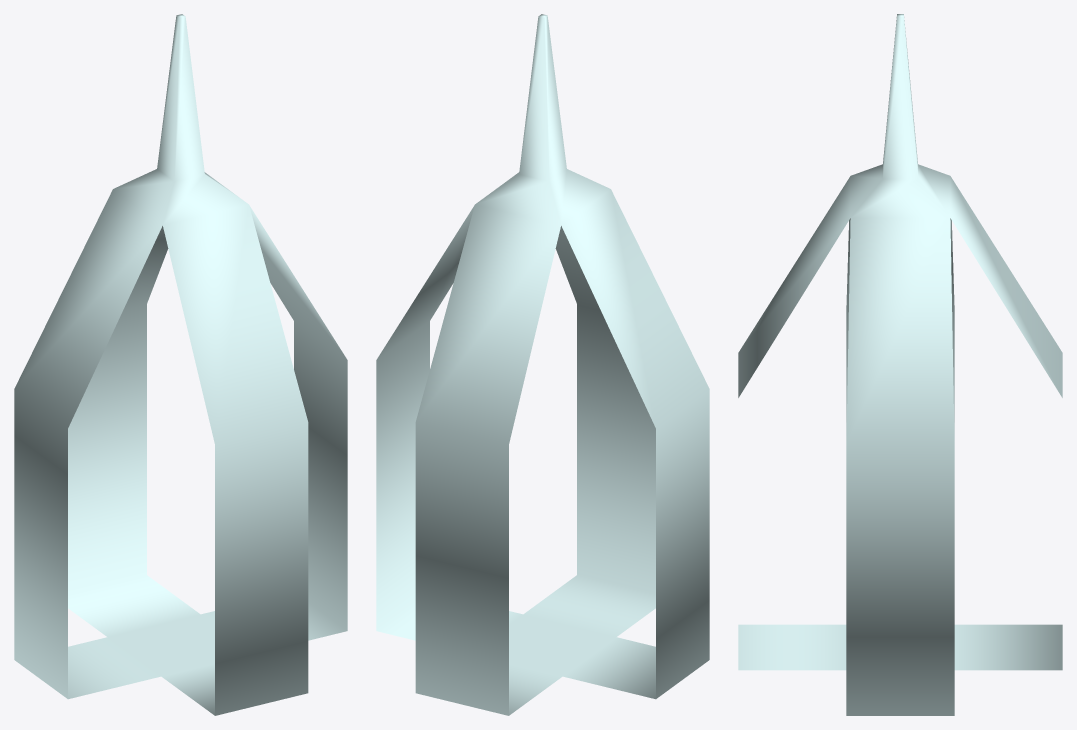
The model's file is stork_holder.fbx.
3 views of the same model, side by side, from view 1: azimuth 30°, elevation 25°; view 2: azimuth 150°, elevation 25°; view 3: azimuth 270°, elevation 25° (orthographic).
Visible parts, largest first — view 1: gift_stork_holder; view 2: gift_stork_holder; view 3: gift_stork_holder.
Part boxes in pixels (bbox=[...]): gift_stork_holder: bbox=[14, 14, 347, 715]; gift_stork_holder: bbox=[376, 14, 709, 715]; gift_stork_holder: bbox=[738, 14, 1062, 715].
Size of the model in its own units: 19.97 by 42.94 by 19.97.
